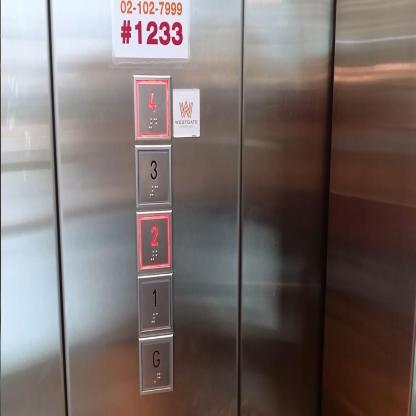1: (136, 273, 174, 334)
2: (136, 210, 172, 273)
3: (135, 145, 172, 208)
4: (133, 74, 171, 140)
G: (138, 332, 173, 394)
